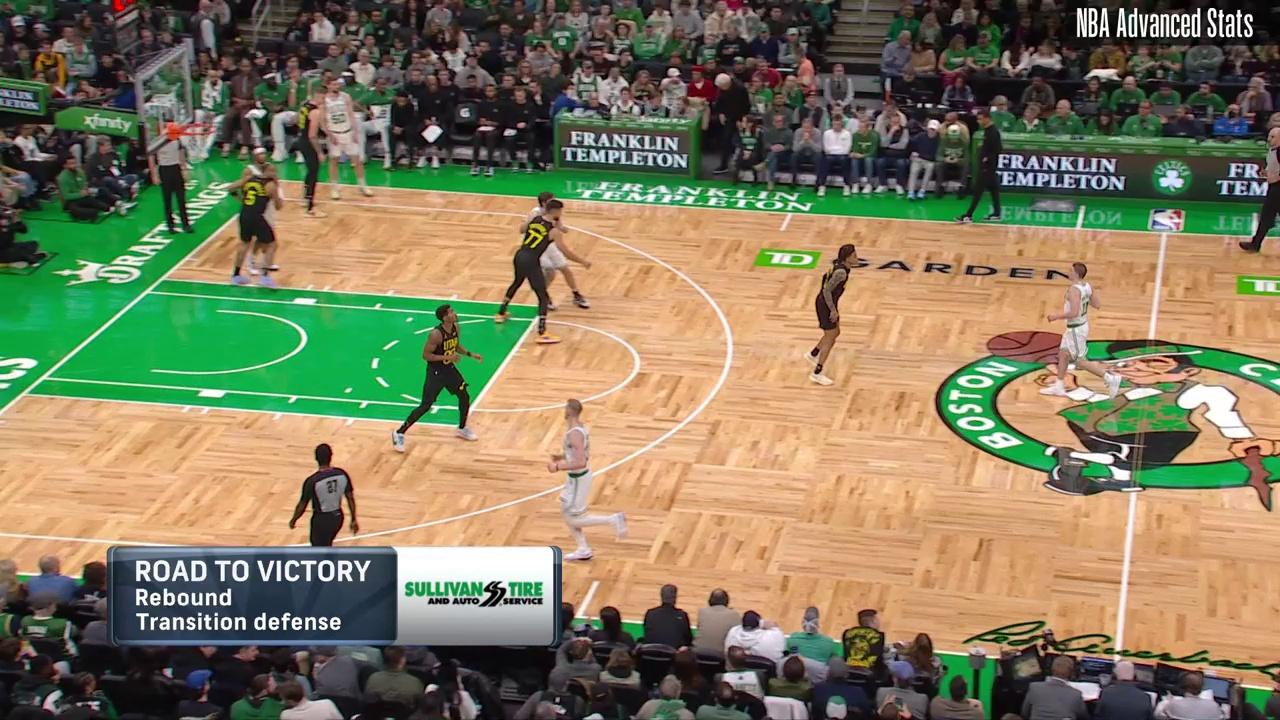free_bdx: (17, 390, 29, 401)
free_bsx: (157, 275, 167, 284)
half_dx: (1154, 223, 1173, 241)
mid_dx: (777, 227, 786, 234)
mid_sx: (590, 576, 599, 585)
referee: (281, 443, 370, 547), (1241, 128, 1280, 258), (155, 121, 194, 234)
team: (541, 397, 628, 560), (1042, 264, 1125, 399), (526, 194, 594, 311), (319, 78, 374, 202), (239, 146, 280, 275)
team1: (387, 302, 486, 443), (491, 205, 569, 347), (804, 238, 858, 388), (225, 163, 280, 285), (298, 91, 329, 216)
